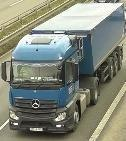truck: (1, 3, 124, 134)
